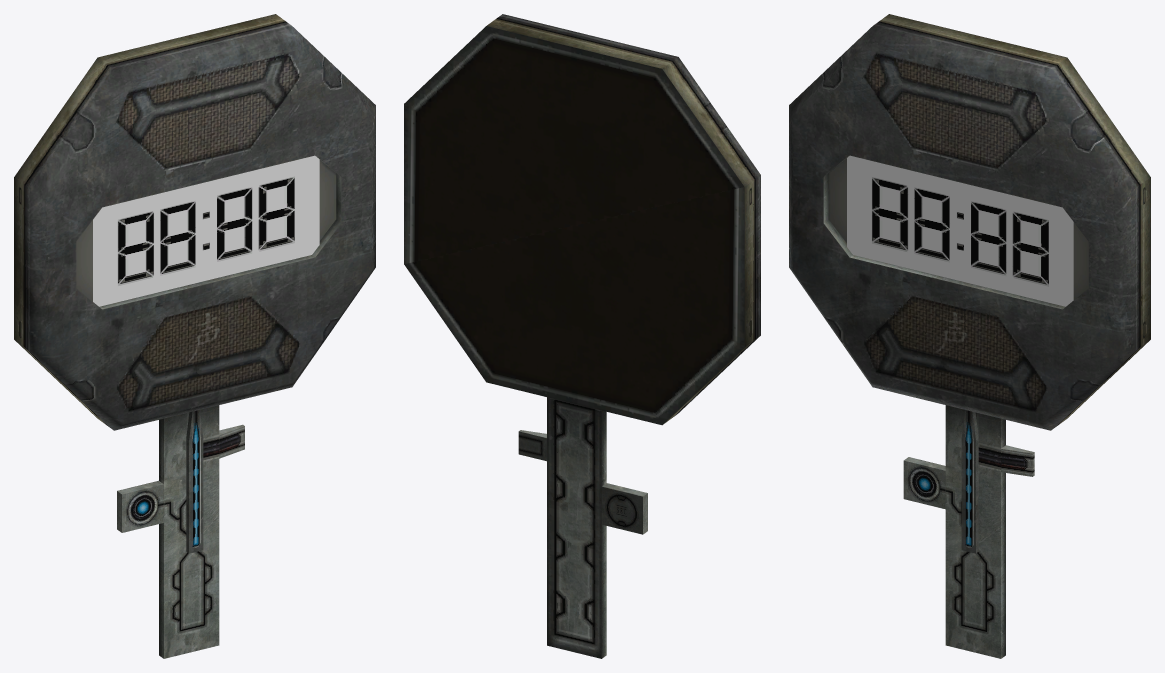
Rendered from clock_community_room.dae.
3 views of the same model, side by side, from view 1: azimuth 30°, elevation 25°; view 2: azimuth 150°, elevation 25°; view 3: azimuth 330°, elevation 25° (orthographic).
Parts seen in each view (by area): view 1: clock, numbers, pendulum; view 2: clock; view 3: clock, numbers, pendulum.
Boxes of the visible parts, x1=… form: clock: x1=14, y1=14, x2=375, y2=658; numbers: x1=93, y1=155, x2=319, y2=306; pendulum: x1=186, y1=410, x2=203, y2=553; clock: x1=404, y1=14, x2=760, y2=658; clock: x1=789, y1=14, x2=1150, y2=658; numbers: x1=847, y1=155, x2=1073, y2=306; pendulum: x1=961, y1=410, x2=978, y2=553.
Bounding box in the file's own units: 0.6 × 1.02 × 0.0667.
